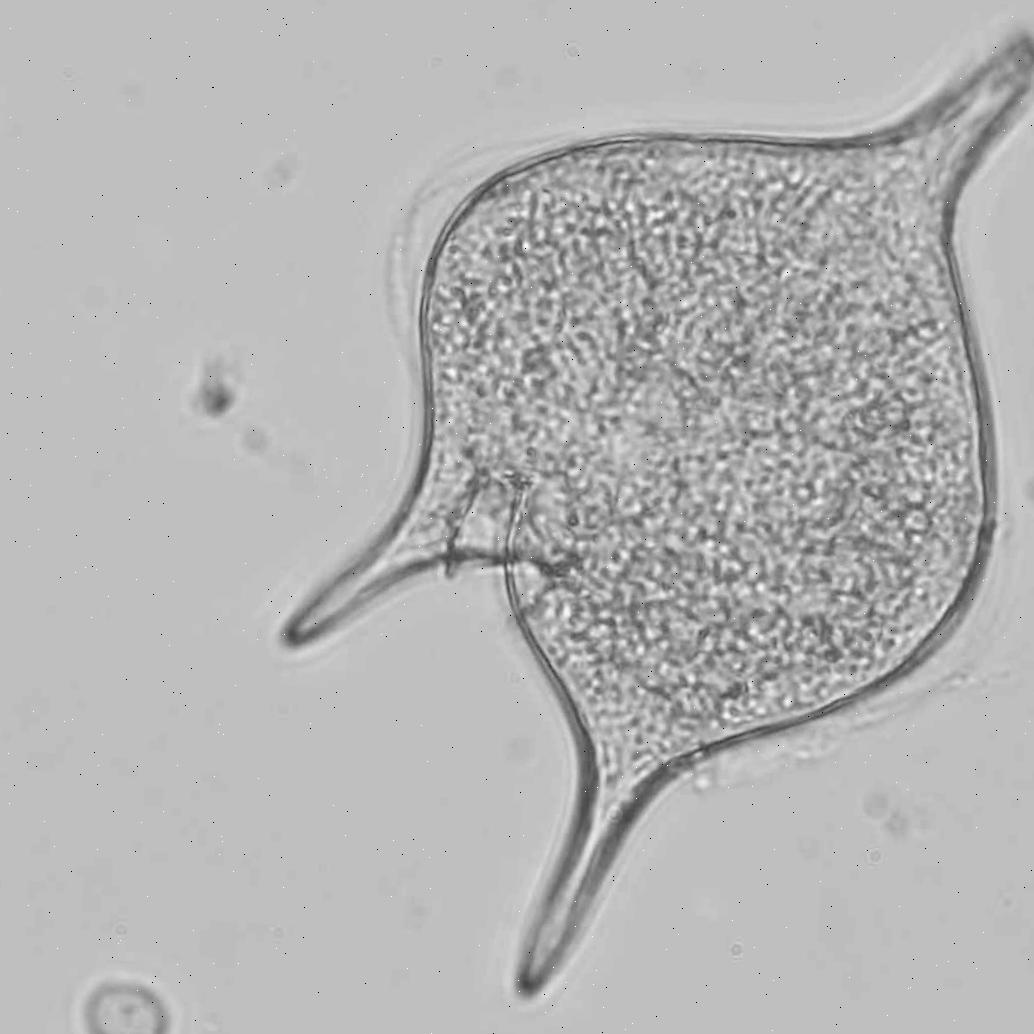protoperidinium_oceanicum: (292, 35, 1034, 985)
